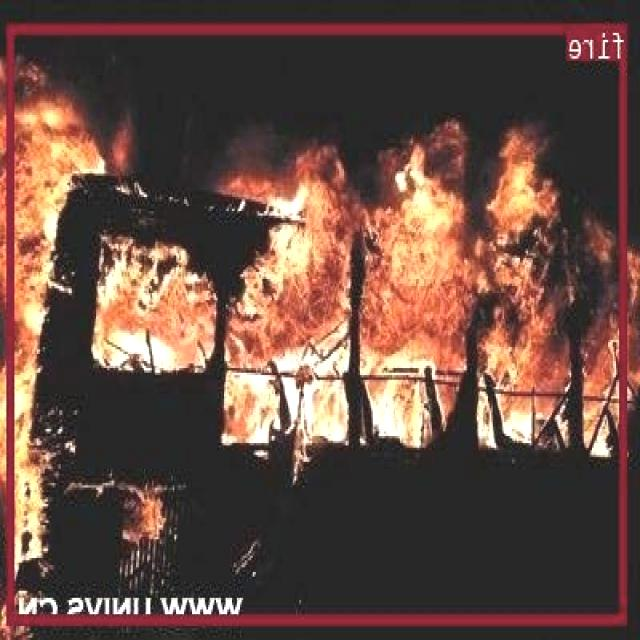fire: (9, 23, 628, 622)
